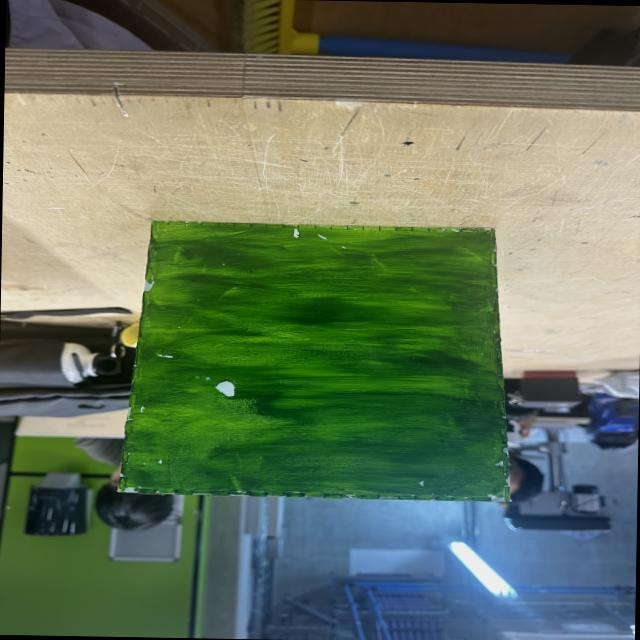green_bin: (117, 218, 520, 504)
